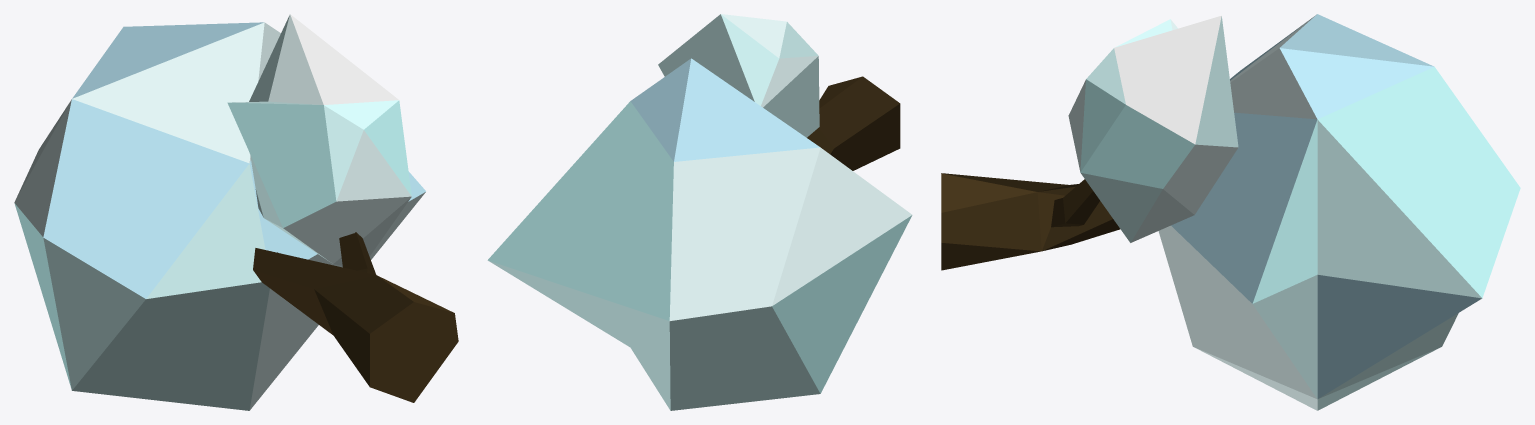
Rendered from winter_tree_9.fbx.
3 views of the same model, side by side, from view 1: azimuth 30°, elevation 25°; view 2: azimuth 150°, elevation 25°; view 3: azimuth 270°, elevation 25° (orthographic). The views are drawn at different scales.
Parts seen in each view (by area): view 1: winter_tree_9; view 2: winter_tree_9; view 3: winter_tree_9.
Boxes of the visible parts, <box> form: winter_tree_9: <box>14,14,458,410</box>; winter_tree_9: <box>487,14,912,410</box>; winter_tree_9: <box>941,14,1520,410</box>.
Size of the model in its own units: 131 by 135 by 176.
